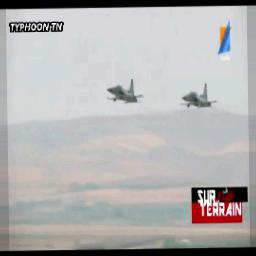Airplane: (108, 78, 144, 106)
